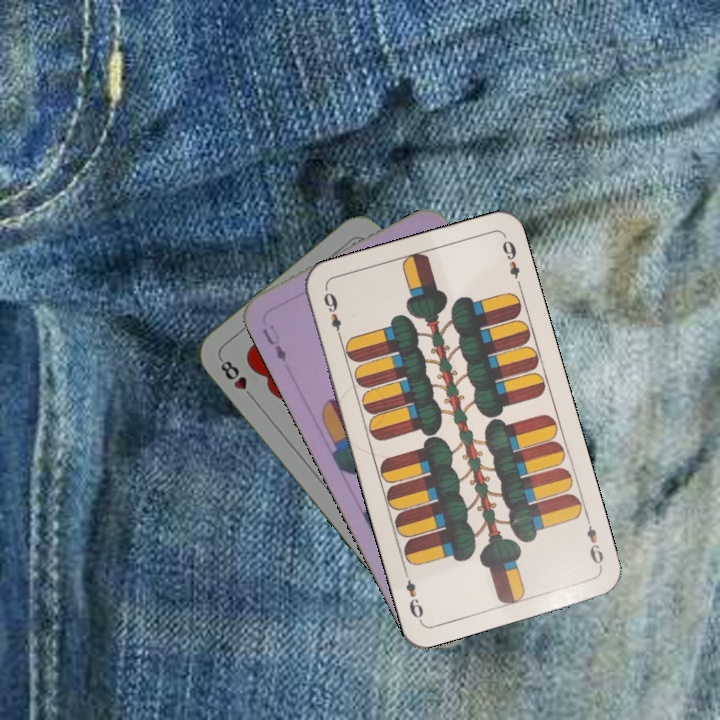E9: (319, 288, 345, 344), (582, 512, 606, 571)
EU: (258, 320, 289, 365)
H8: (215, 354, 258, 403)
